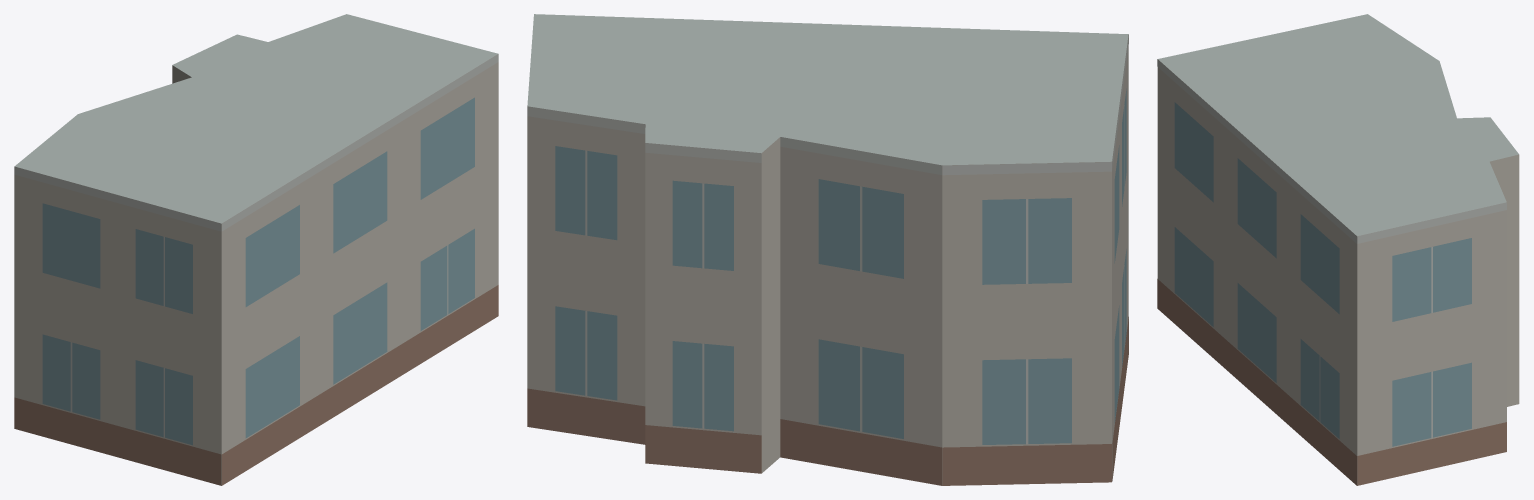
The model's file is survey-upis-32688984.glb.
The picture shows the model from 3 angles, left to right: view 1: azimuth 30°, elevation 25°; view 2: azimuth 150°, elevation 25°; view 3: azimuth 270°, elevation 25°; orthographic projection. The views are drawn at different scales.
Parts seen in each view (by area): view 1: survey-upis-32688984.tmp; view 2: survey-upis-32688984.tmp; view 3: survey-upis-32688984.tmp.
Boxes of the visible parts, x1,y1,x2,y2 form: survey-upis-32688984.tmp: (14, 14, 498, 485); survey-upis-32688984.tmp: (527, 14, 1128, 485); survey-upis-32688984.tmp: (1157, 14, 1519, 485).
Size of the model in its own units: 15.1 by 7.9 by 10.39.
